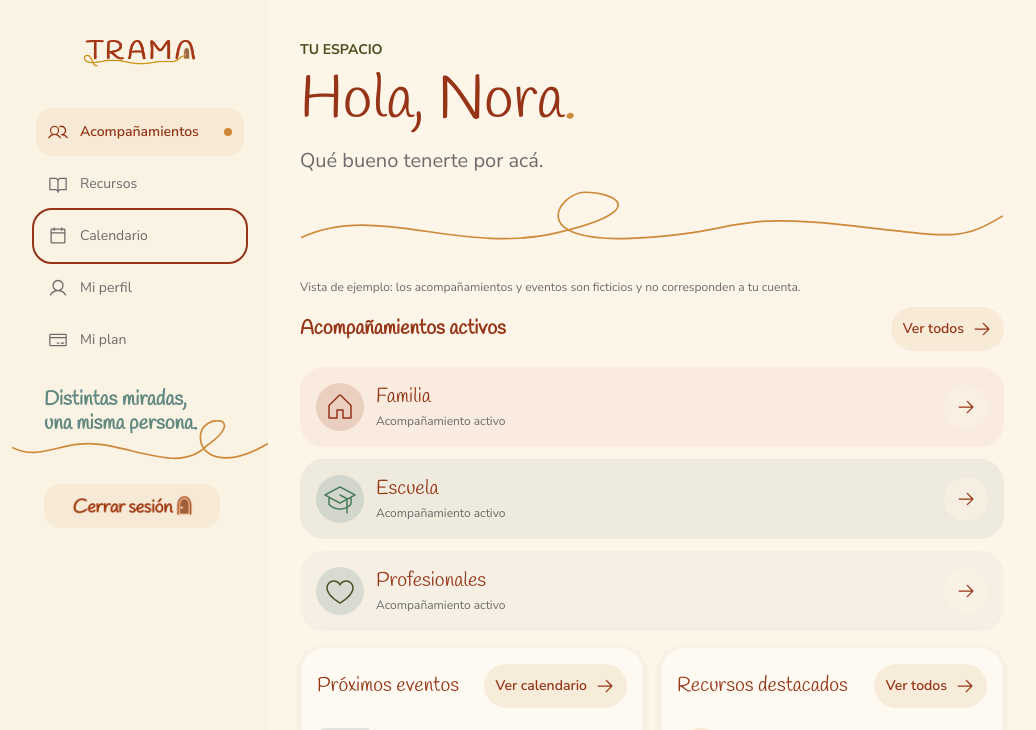
Inicio de TRAMA › permite navegar por teclado a un módulo pendiente y regresar
Press Enter
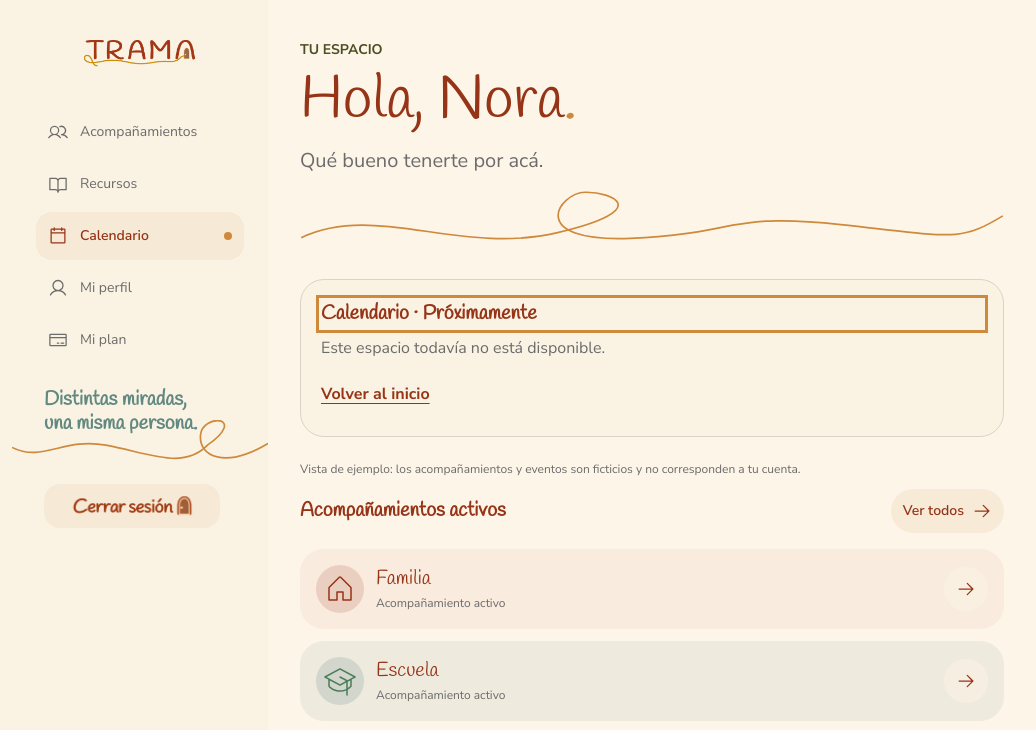
Expected: the link "Calendario" is marked as current, top-left (36, 212), bottom-right (244, 260)
Click the link "Volver al inicio" at x=375, y=394, box top-left (321, 383), bottom-right (430, 405)
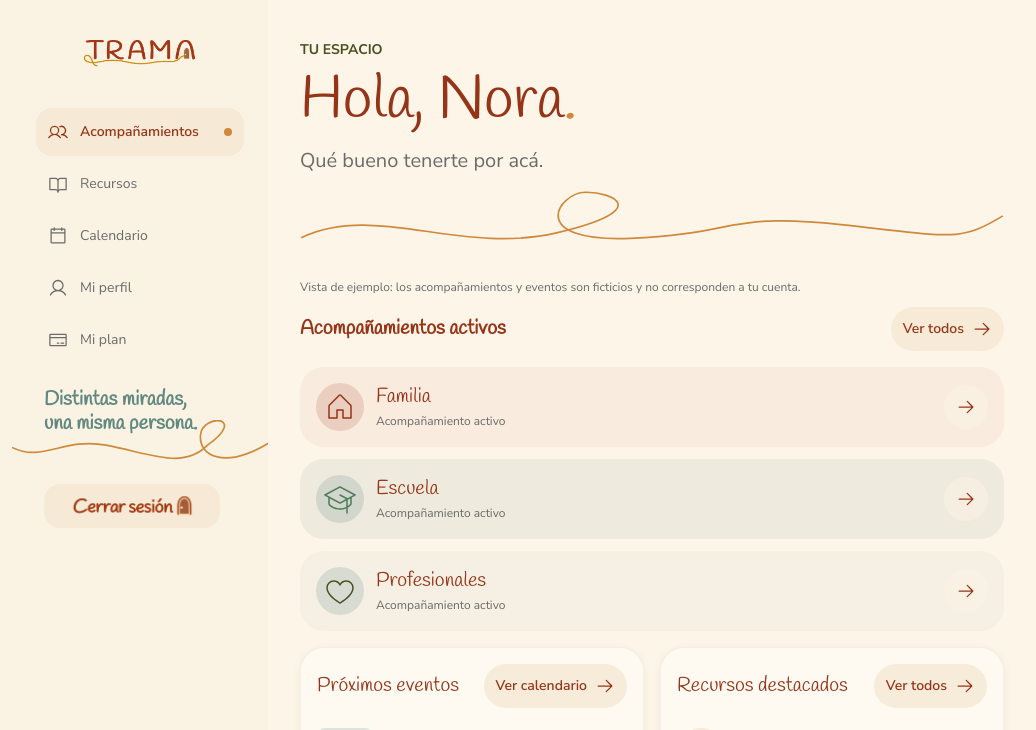
Expected: the text "Este espacio todavía no está disponible." is gone
